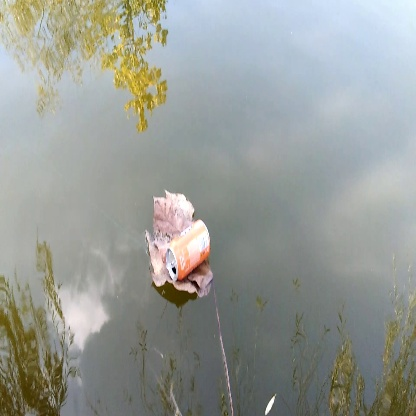bottle: (157, 217, 218, 287)
